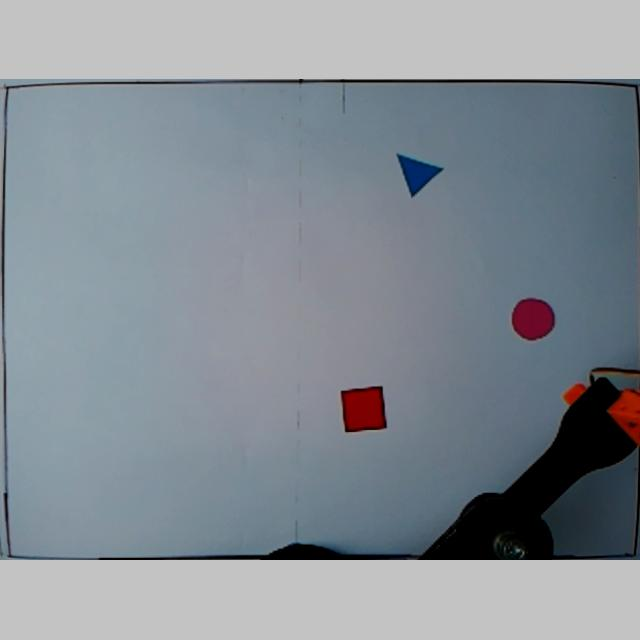blueTriangle: (394, 150, 444, 200)
pinkCircle: (510, 297, 558, 343)
redSquare: (340, 388, 388, 436)
